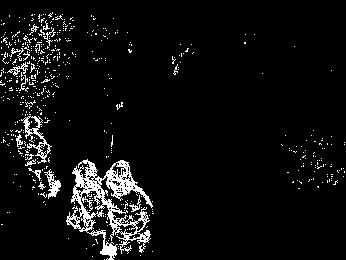person: (102, 161, 152, 252), (70, 158, 106, 260), (16, 116, 60, 198)
